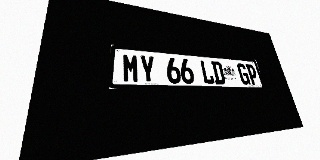6: (165, 57, 182, 84), (179, 58, 195, 84)
D: (211, 61, 226, 84)
G: (236, 63, 251, 85)
L: (199, 60, 215, 84)
M: (122, 53, 140, 83)
P: (245, 64, 260, 85)
Y: (139, 55, 156, 83)
